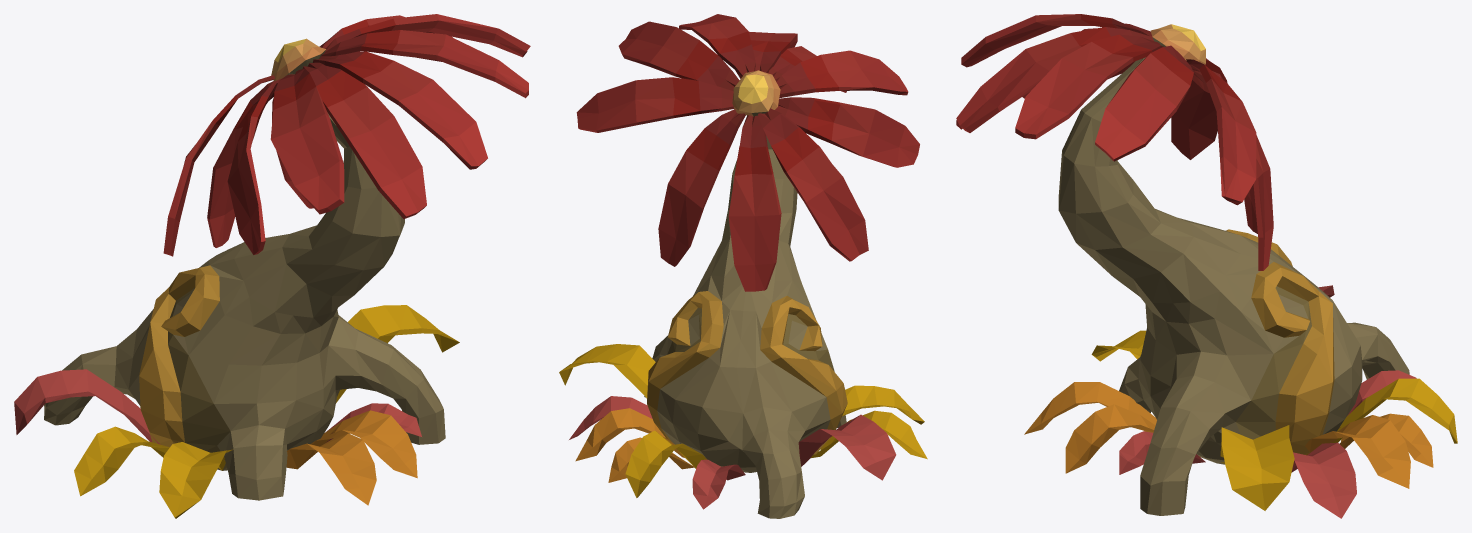
The model's file is anima.gltf.
The picture shows the model from 3 angles, left to right: view 1: azimuth 30°, elevation 25°; view 2: azimuth 150°, elevation 25°; view 3: azimuth 270°, elevation 25°; orthographic projection. The views are drawn at different scales.
Size of the model in its own units: 281 by 283 by 289.
Materials: 1 (1 with a texture image).
